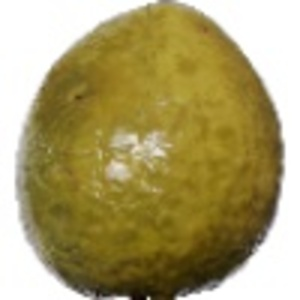goiaba: (19, 4, 287, 291)
